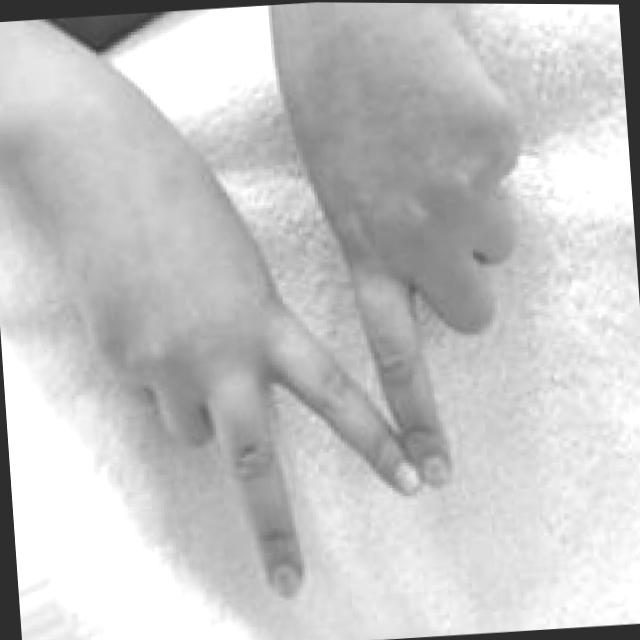N: (54, 24, 568, 619)
